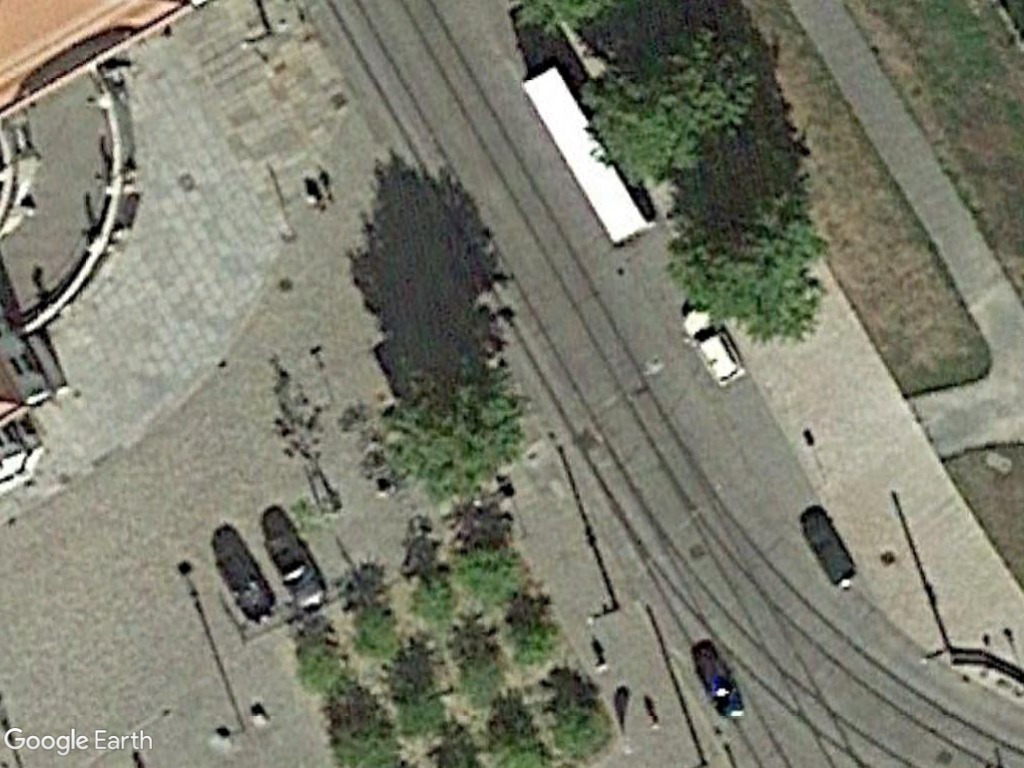car: (676, 301, 748, 391)
longvehicle: (519, 59, 657, 253)
